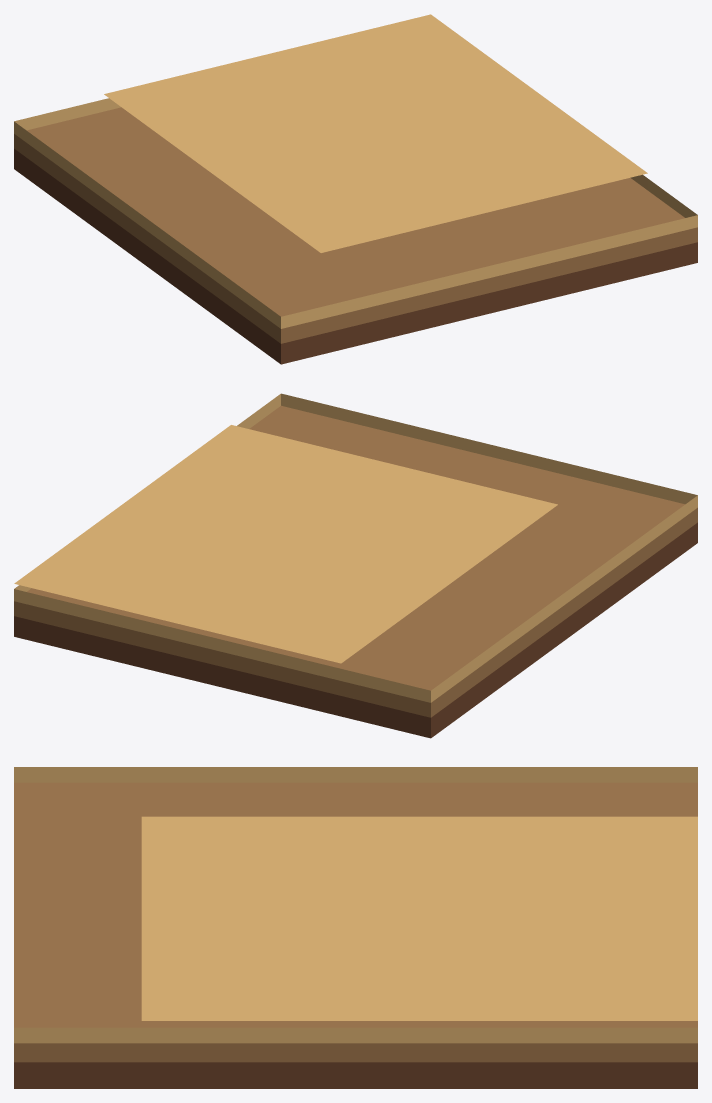
Rendered from ground.fbx.
3 views of the same model, one above another, from view 1: azimuth 30°, elevation 25°; view 2: azimuth 150°, elevation 25°; view 3: azimuth 270°, elevation 25° (orthographic). The views are drawn at different scales.
Visible parts, largest first — view 1: Plane.002; view 2: Plane.002; view 3: Plane.002.
Part boxes in pixels (x1,y1,x2,y2): Plane.002: (14, 14, 697, 364); Plane.002: (14, 393, 697, 738); Plane.002: (14, 767, 697, 1088).
Size of the model in its own units: 150 by 18.16 by 166.
Materials: 1 (1 with a texture image).
